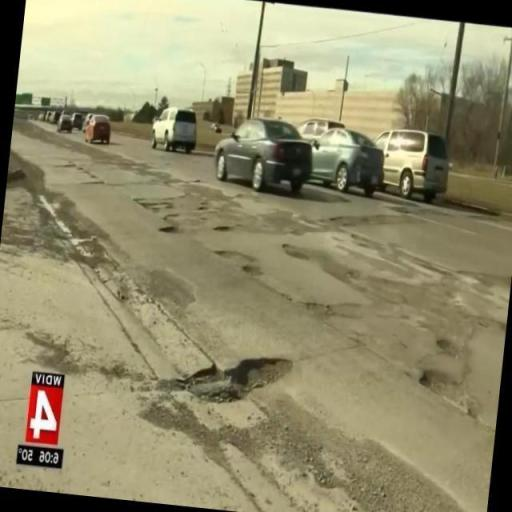pothole: (175, 360, 289, 404), (422, 373, 466, 409)
